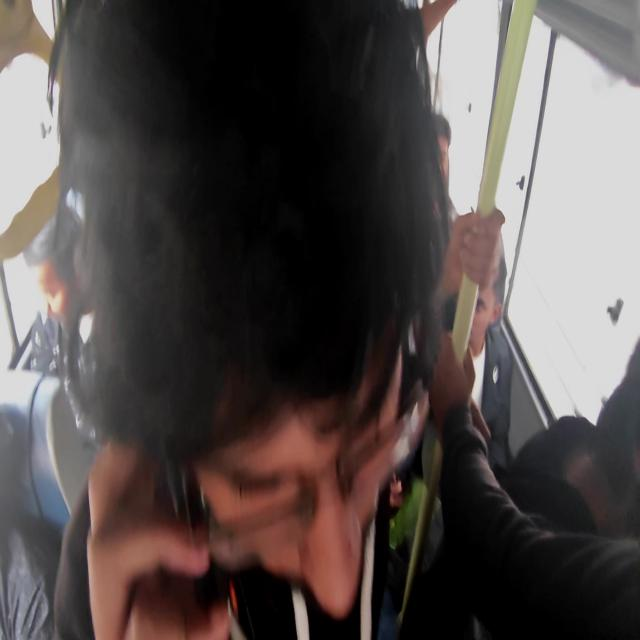person: (39, 0, 456, 638), (466, 230, 513, 477)
